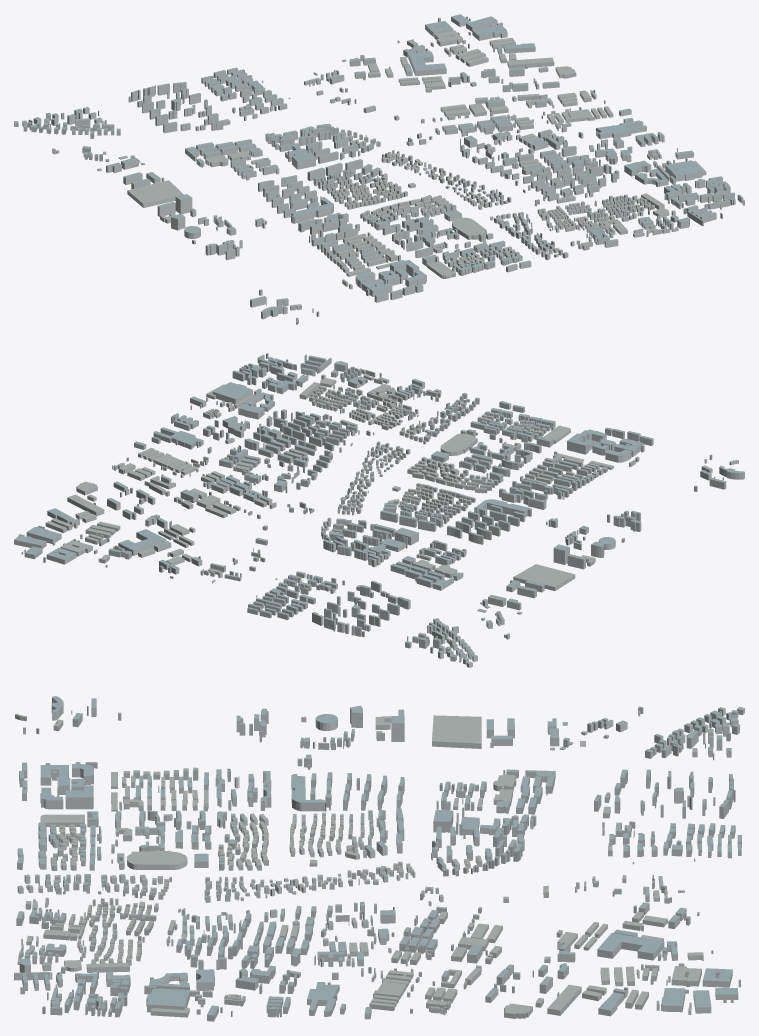
3 renders of one model, top to bottom at view 1: azimuth 30°, elevation 25°; view 2: azimuth 150°, elevation 25°; view 3: azimuth 270°, elevation 25°, orthographic. The views are drawn at different scales.
Visible parts, largest first — view 1: 上海全域建筑分块 · mapped building neighborhood; view 2: 上海全域建筑分块 · mapped building neighborhood; view 3: 上海全域建筑分块 · mapped building neighborhood.
Boxes of the visible parts, bbox=[...] form: 上海全域建筑分块 · mapped building neighborhood: bbox=[14, 14, 744, 324]; 上海全域建筑分块 · mapped building neighborhood: bbox=[14, 353, 744, 667]; 上海全域建筑分块 · mapped building neighborhood: bbox=[14, 696, 744, 1021].
Size of the model in its own units: 2171 by 59.84 by 2118.
